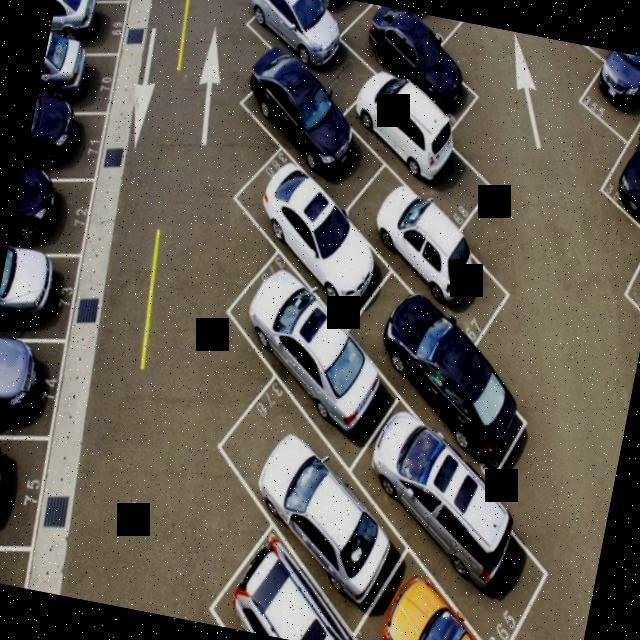space-occupied: (332, 374, 576, 640), (209, 394, 423, 640), (332, 250, 554, 483), (204, 237, 413, 466), (208, 116, 408, 339), (336, 149, 521, 340), (214, 34, 387, 215), (339, 53, 499, 228), (211, 518, 379, 640), (338, 2, 484, 125), (227, 0, 370, 110), (364, 545, 527, 640), (0, 238, 86, 361), (8, 171, 106, 266), (22, 98, 118, 194), (0, 326, 68, 451), (589, 85, 640, 251), (569, 46, 640, 152), (36, 38, 123, 118), (47, 0, 133, 58), (549, 39, 640, 77)
